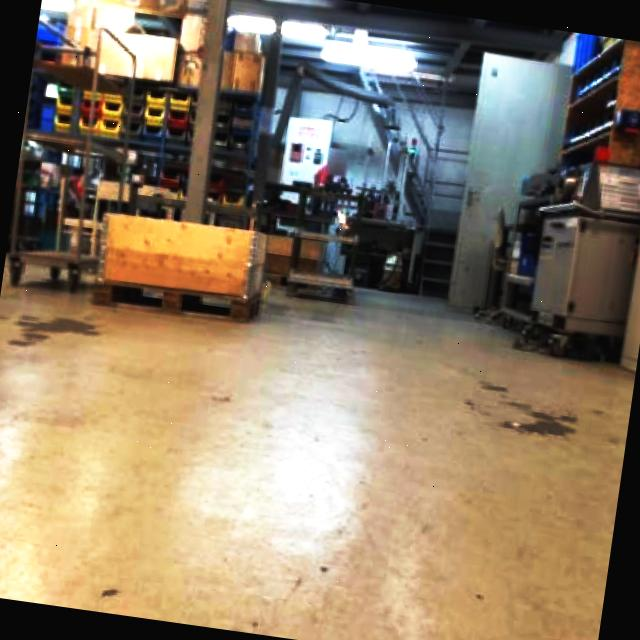ground: (0, 231, 640, 640)
pallet: (4, 52, 266, 305), (3, 161, 363, 338), (88, 205, 271, 327), (47, 73, 256, 161), (557, 33, 640, 172), (89, 274, 258, 326), (7, 208, 103, 296), (282, 224, 362, 304), (259, 230, 325, 286), (415, 226, 457, 299), (282, 265, 356, 304)
